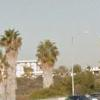Palm tree: (2, 22, 60, 75)
